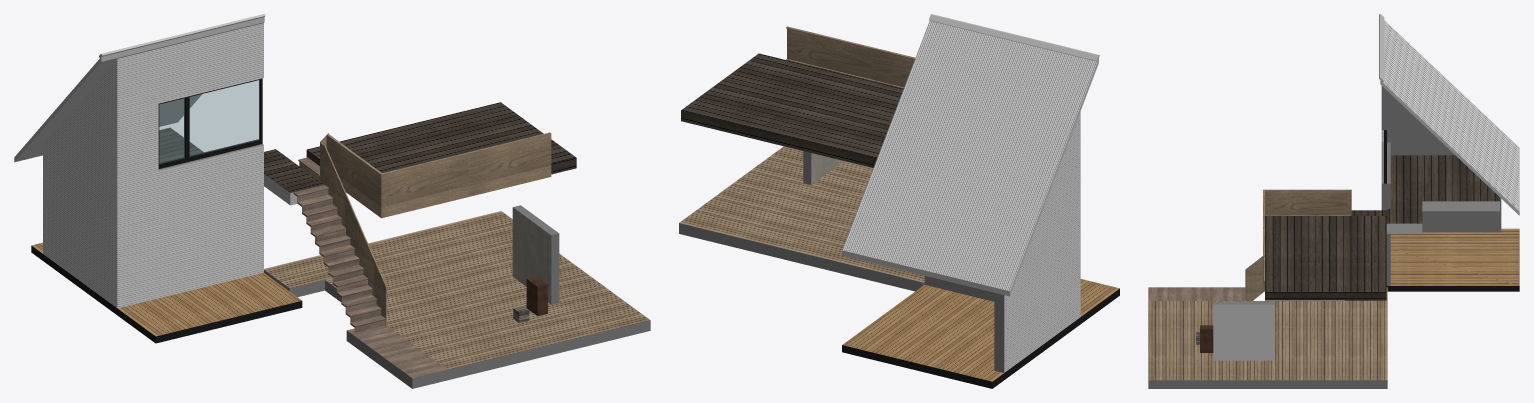
File: CubeMur04.obj
3 renders of one model, left to right at view 1: azimuth 30°, elevation 25°; view 2: azimuth 150°, elevation 25°; view 3: azimuth 270°, elevation 25°, orthographic. The views are drawn at different scales.
Visible parts, largest first — view 1: UNITY_Bois_Blanc_Horizontal_Existant_2, UNITY_Plafond_Planche_Cedre, UNITY_Plafond_Planche_Large, Blanc_Bois_Marche3, UNITY_Teak_Pale, Aluminex_Glass, UNITY_Plafond_Planche_Cedre_Partie_Angle, Sol_par_défaut, UNITY_Gris, UNITY_Aluminex_Frame, Blanc_Bois_Marche, UNITY_Beton (+3 smaller); view 2: UNITY_Taule_4"_90deg, UNITY_Plafond_Planche_Large, UNITY_Plafond_Planche_Cedre, UNITY_Bois_Blanc_Horizontal_Existant_2, UNITY_Plafond_Planche_Cedre_Partie_Angle, Blanc_Bois_Marche3, Sol_par_défaut, UNITY_Aluminex_Frame, UNITY_Gris, UNITY_Crete, Mur_par_défaut, UNITY_Gypsum_Wall_Board (+2 smaller); view 3: UNITY_Plafond_Planche_Large, UNITY_Plafond_Planche_Cedre, UNITY_Taule_4"_90deg, UNITY_Plafond_Planche_Cedre_Partie_Angle, UNITY_Gypsum_Wall_Board, UNITY_Brique, Blanc_Bois_Marche3, Sol_par_défaut, UNITY_Teak_Pale, UNITY_Peint_Blanc, Mur_par_défaut, Blanc_Bois_Marche (+4 smaller).
Part boxes in pixels (x1,y1,x2,y2): UNITY_Bois_Blanc_Horizontal_Existant_2: (43,23,263,308); UNITY_Plafond_Planche_Cedre: (264,211,649,369); UNITY_Plafond_Planche_Large: (159,102,576,192); Blanc_Bois_Marche3: (326,133,551,218); UNITY_Teak_Pale: (293,157,447,378); Aluminex_Glass: (159,80,259,163); UNITY_Plafond_Planche_Cedre_Partie_Angle: (31,242,301,336); Sol_par_défaut: (264,270,650,388); UNITY_Gris: (14,17,264,162); UNITY_Aluminex_Frame: (31,78,302,343); Blanc_Bois_Marche: (299,132,550,325); UNITY_Beton: (512,207,551,304); UNITY_Taule_4"_90deg: (842,21,1097,291); UNITY_Plafond_Planche_Large: (681,53,903,167); UNITY_Plafond_Planche_Cedre: (679,146,924,282); UNITY_Bois_Blanc_Horizontal_Existant_2: (1004,111,1080,372); UNITY_Plafond_Planche_Cedre_Partie_Angle: (842,279,1119,381); Blanc_Bois_Marche3: (787,26,915,87); Sol_par_défaut: (679,223,924,291); UNITY_Aluminex_Frame: (842,288,1119,388); UNITY_Gris: (842,58,1098,296); UNITY_Crete: (929,14,1099,61); Mur_par_défaut: (803,151,1004,372); UNITY_Gypsum_Wall_Board: (924,276,994,301); UNITY_Plafond_Planche_Large: (1265,155,1499,300); UNITY_Plafond_Planche_Cedre: (1148,287,1387,380); UNITY_Taule_4"_90deg: (1383,20,1519,211); UNITY_Plafond_Planche_Cedre_Partie_Angle: (1390,228,1519,285); UNITY_Gypsum_Wall_Board: (1381,94,1501,232); UNITY_Brique: (1213,304,1274,360); Blanc_Bois_Marche3: (1263,189,1350,290); Sol_par_défaut: (1148,380,1387,388); UNITY_Teak_Pale: (1148,287,1253,300); UNITY_Peint_Blanc: (1386,201,1499,233); Mur_par_défaut: (1213,86,1390,304); Blanc_Bois_Marche: (1245,189,1351,300).
Size of the model in its own units: 39.93 by 25.43 by 39.54.
